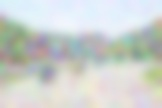Vehicle: (37, 48, 57, 83), (72, 50, 88, 74)
